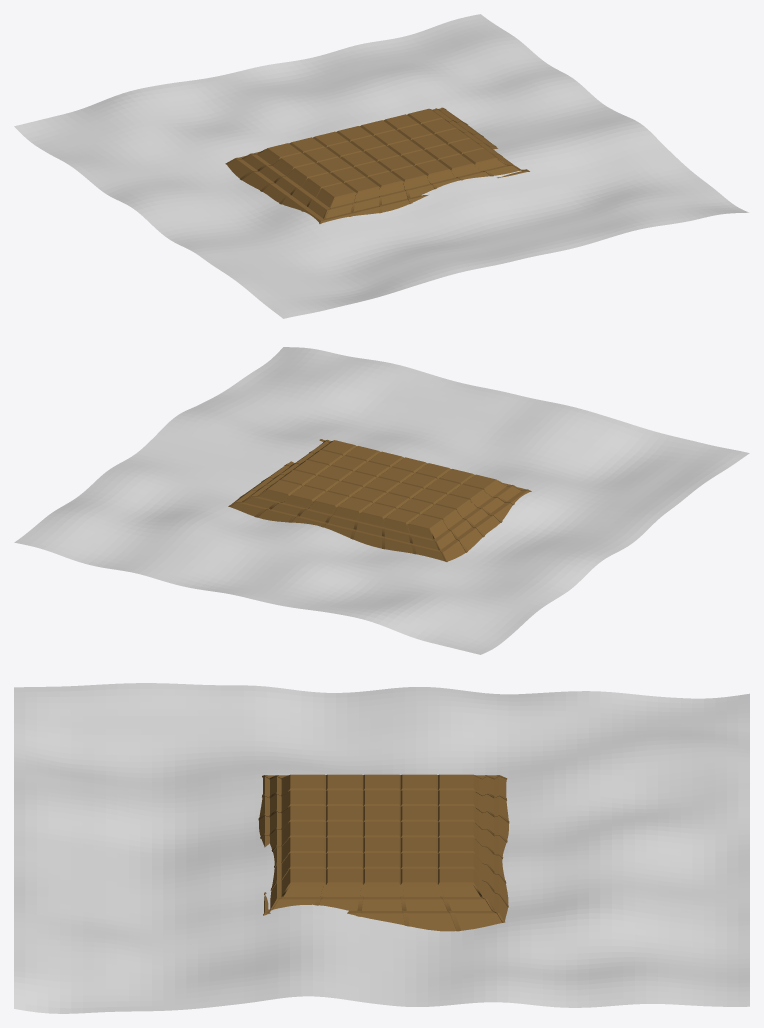
File: wustetrue3332.fbx
3 renders of one model, top to bottom at view 1: azimuth 30°, elevation 25°; view 2: azimuth 150°, elevation 25°; view 3: azimuth 270°, elevation 25°, orthographic. The views are drawn at different scales.
Visible parts, largest first — view 1: Plane, Cube; view 2: Plane, Cube; view 3: Plane, Cube.
Boxes of the visible parts, box(x1,y1,x2,y2) form: Plane: box(14, 14, 748, 318); Cube: box(225, 107, 529, 223); Plane: box(14, 347, 749, 654); Cube: box(228, 439, 531, 561); Plane: box(14, 683, 749, 1013); Cube: box(258, 774, 509, 931).
Bounding box in the file's own units: 6000 × 6000 × 290.
